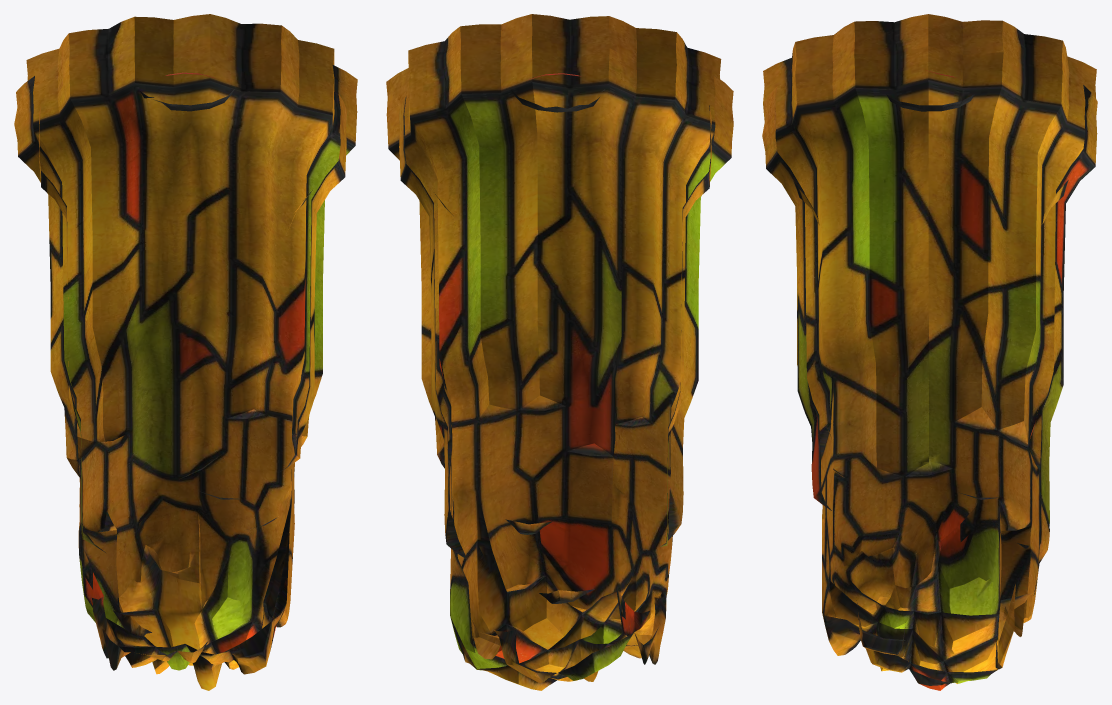
3 views of the same model, side by side, from view 1: azimuth 30°, elevation 25°; view 2: azimuth 150°, elevation 25°; view 3: azimuth 270°, elevation 25° (orthographic).
Parts seen in each view (by area): view 1: pg_zpm_v2.001_0; view 2: pg_zpm_v2.001_0; view 3: pg_zpm_v2.001_0.
Part boxes in pixels (x1,y1,x2,y2): pg_zpm_v2.001_0: (14, 14, 357, 690); pg_zpm_v2.001_0: (386, 14, 733, 690); pg_zpm_v2.001_0: (762, 14, 1097, 690).
Size of the model in its own units: 0.5501 by 1.05 by 0.5389.
Materials: 1 (1 with a texture image).
